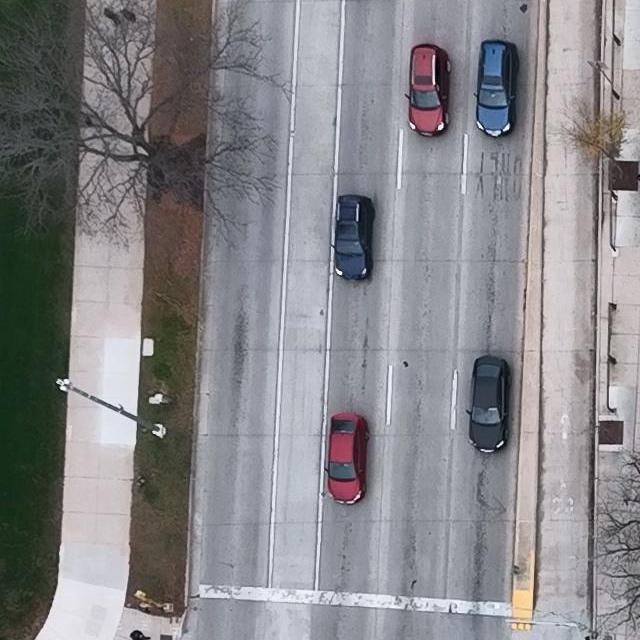car: (465, 355, 511, 454), (473, 38, 518, 138), (324, 411, 370, 505), (404, 44, 450, 137), (331, 195, 374, 281)
